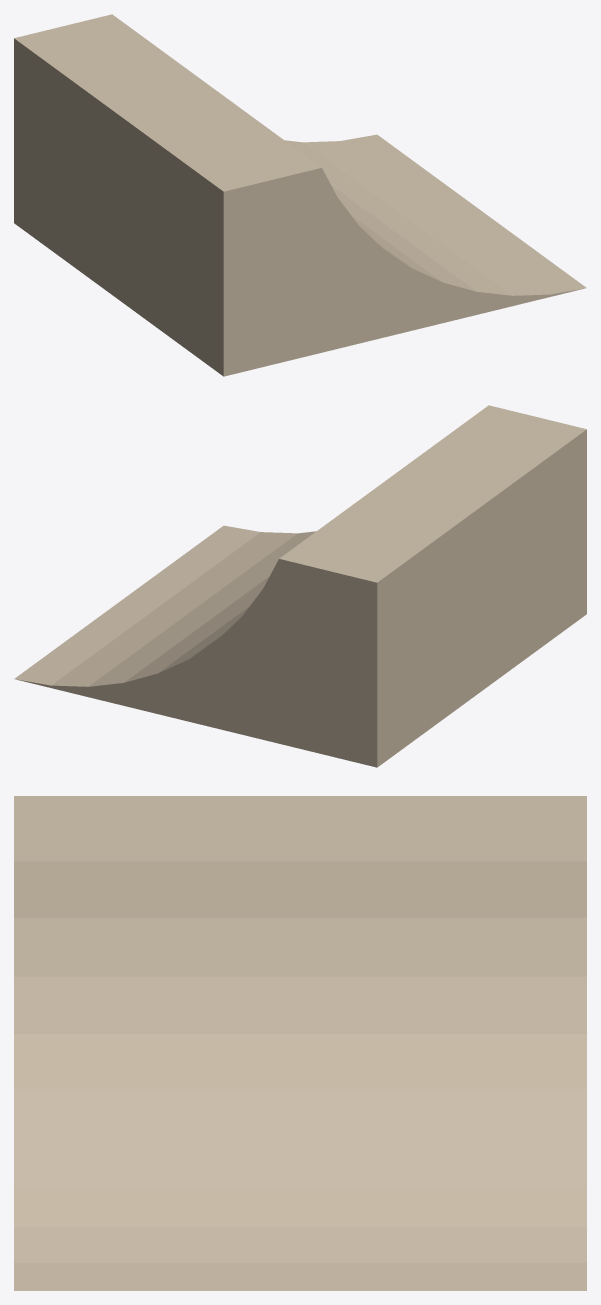
The model's file is qtr-pipe-lg.glb.
3 renders of one model, top to bottom at view 1: azimuth 30°, elevation 25°; view 2: azimuth 150°, elevation 25°; view 3: azimuth 270°, elevation 25°, orthographic. The views are drawn at different scales.
Visible parts, largest first — view 1: Mesh_Mesh_head_geo.001_lambert2SG.001; view 2: Mesh_Mesh_head_geo.001_lambert2SG.001; view 3: Mesh_Mesh_head_geo.001_lambert2SG.001.
Boxes of the visible parts, x1,y1,x2,y2 form: Mesh_Mesh_head_geo.001_lambert2SG.001: (14, 14, 586, 376); Mesh_Mesh_head_geo.001_lambert2SG.001: (14, 405, 586, 767); Mesh_Mesh_head_geo.001_lambert2SG.001: (14, 796, 586, 1290).
Size of the model in its own units: 0.037 by 0.018 by 0.037.
